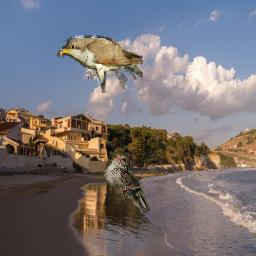Cuckoo: (57, 35, 143, 93)
Sparrow: (102, 152, 151, 215)
